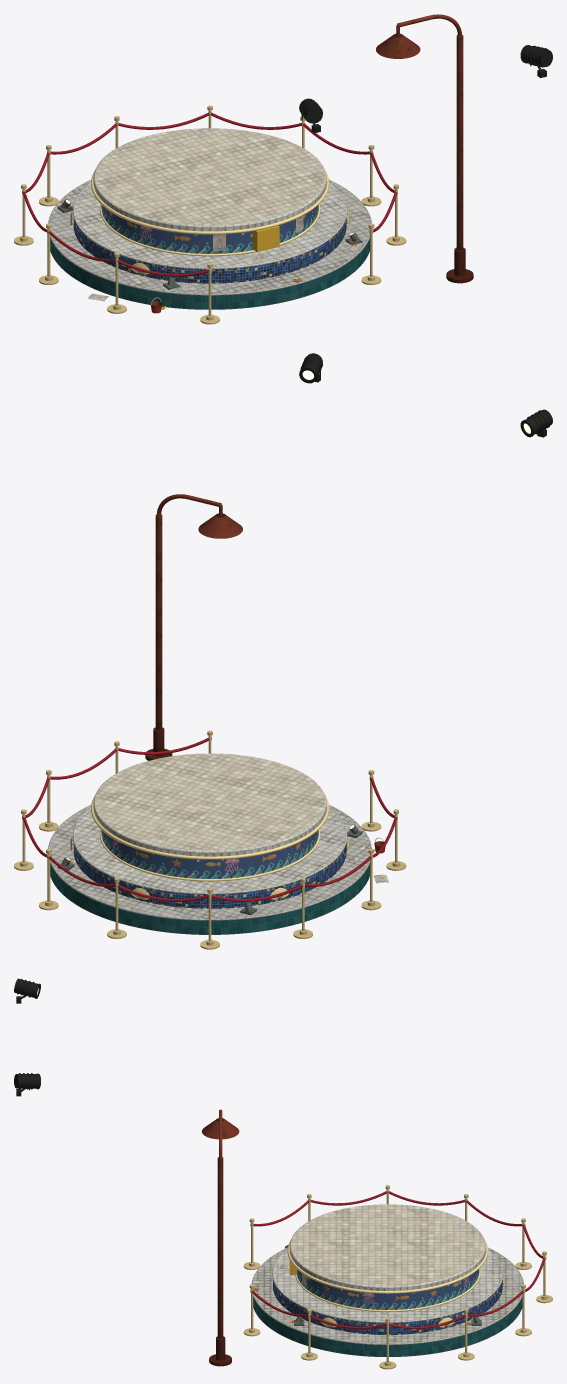
The model's file is sala_monumento.glb.
3 renders of one model, top to bottom at view 1: azimuth 30°, elevation 25°; view 2: azimuth 150°, elevation 25°; view 3: azimuth 270°, elevation 25°, orthographic. The views are drawn at different scales.
Visible parts, largest first — view 1: amb_piedistallo, sala_monumento_cordone, amb_lampione, sala_monumento_fari, sala_monumento_offerte; view 2: amb_piedistallo, sala_monumento_cordone, amb_lampione, sala_monumento_fari; view 3: amb_piedistallo, sala_monumento_cordone, amb_lampione, sala_monumento_fari.
Boxes of the visible parts, x1=… form: amb_piedistallo: x1=48, y1=128, x2=371, y2=309; sala_monumento_cordone: x1=14, y1=105, x2=406, y2=324; amb_lampione: x1=376, y1=14, x2=473, y2=283; sala_monumento_fari: x1=299, y1=45, x2=552, y2=133; sala_monumento_offerte: x1=87, y1=216, x2=362, y2=313; amb_piedistallo: x1=48, y1=753, x2=371, y2=934; sala_monumento_cordone: x1=14, y1=730, x2=406, y2=949; amb_lampione: x1=145, y1=494, x2=242, y2=760; sala_monumento_fari: x1=299, y1=353, x2=552, y2=437; amb_piedistallo: x1=251, y1=1204, x2=524, y2=1356; sala_monumento_cordone: x1=243, y1=1185, x2=552, y2=1369; amb_lampione: x1=202, y1=1109, x2=239, y2=1366; sala_monumento_fari: x1=14, y1=978, x2=40, y2=1096.
Size of what is drawn, in the model's own units: 6.32 by 5.77 by 10.31.
Materials: 17 (13 with a texture image).
